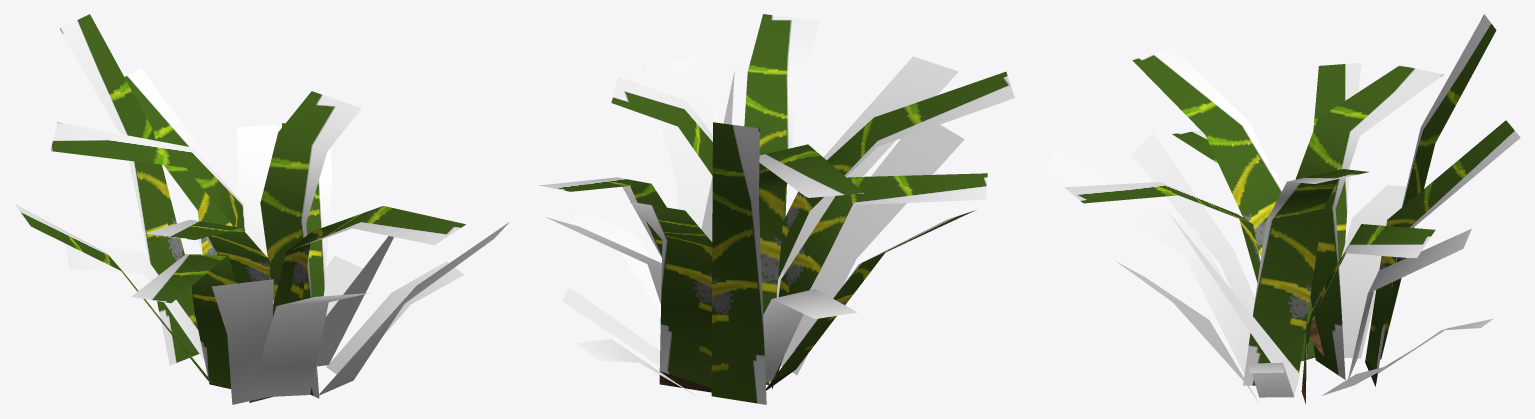
File: Grass01.FBX
The picture shows the model from 3 angles, left to right: view 1: azimuth 30°, elevation 25°; view 2: azimuth 150°, elevation 25°; view 3: azimuth 270°, elevation 25°; orthographic projection. The views are drawn at different scales.
Visible parts, largest first — view 1: Grass01; view 2: Grass01; view 3: Grass01.
Part boxes in pixels (x1=…): Grass01: x1=15, y1=14, x2=509, y2=404; Grass01: x1=539, y1=14, x2=1014, y2=404; Grass01: x1=1043, y1=14, x2=1520, y2=403.
Bounding box in the file's own units: 267 × 206 × 284.
